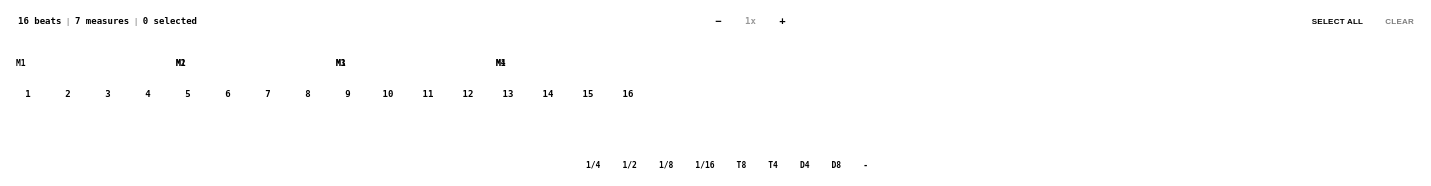
Scenario: BeatSubdivisionGrid › Selection Interactions - Shift+Click Range Selection › selects range from last selected beat to clicked beat with shift+click
# First, click beat 2 (index 1) to establish anchor
Click the button "2": (68, 94) [65,89,71,99]
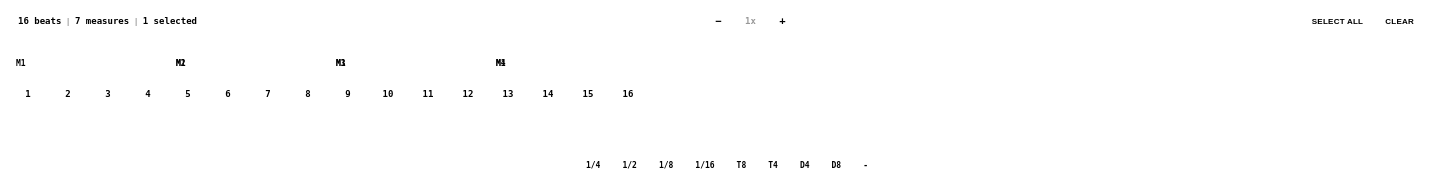
# Then shift+click beat 6 (index 5) to select range
Click the button "6": (228, 94) [225,89,231,99]
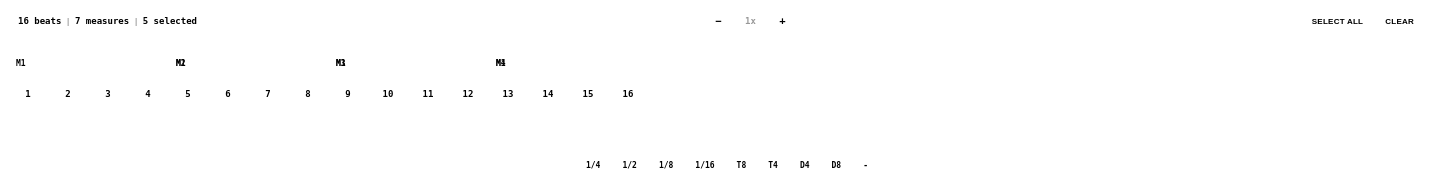
Expected: the text "5 selected" is shown, [143,16,197,26]
